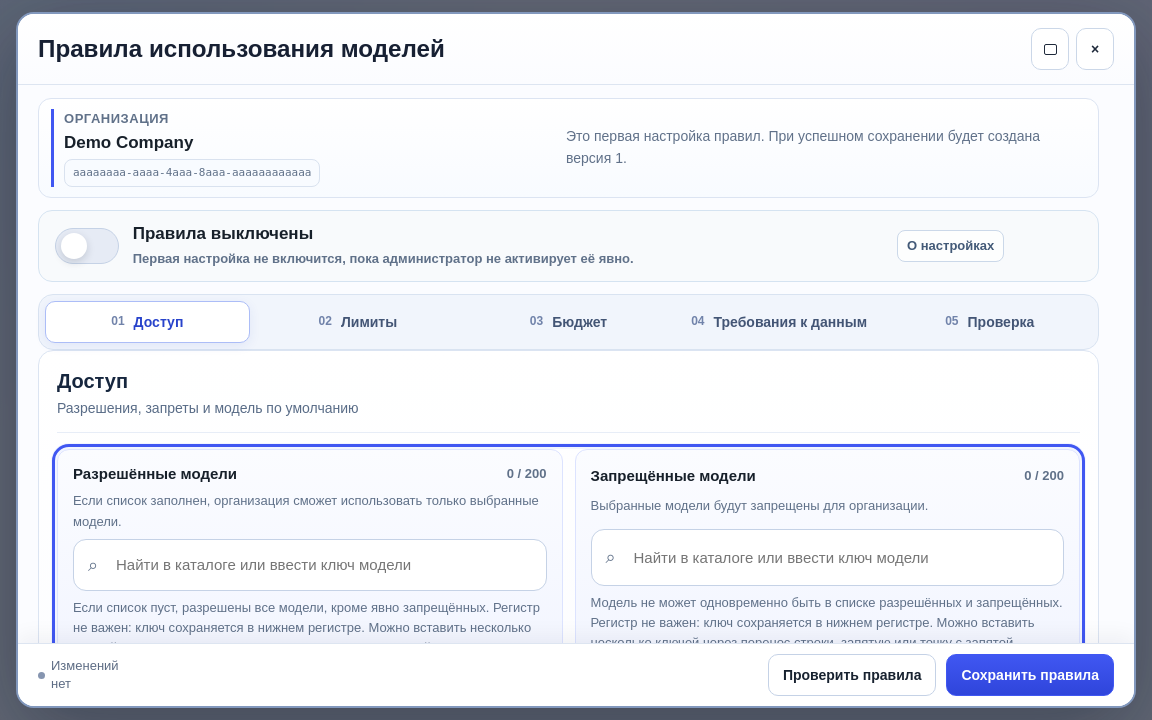
Test: ModelPolicyModal › меняет подпись статуса при включении правил
The width and height of the screenshot is (1152, 720).
Expected: the text "Правила выключены" is shown, [133, 224, 313, 243]
Expected: the text "Первая настройка не включится, пока администратор не активирует её явно." is shown, [133, 249, 634, 269]
Click the checkbox labelled "Правила выключены": (87, 246) [55, 224, 634, 266]
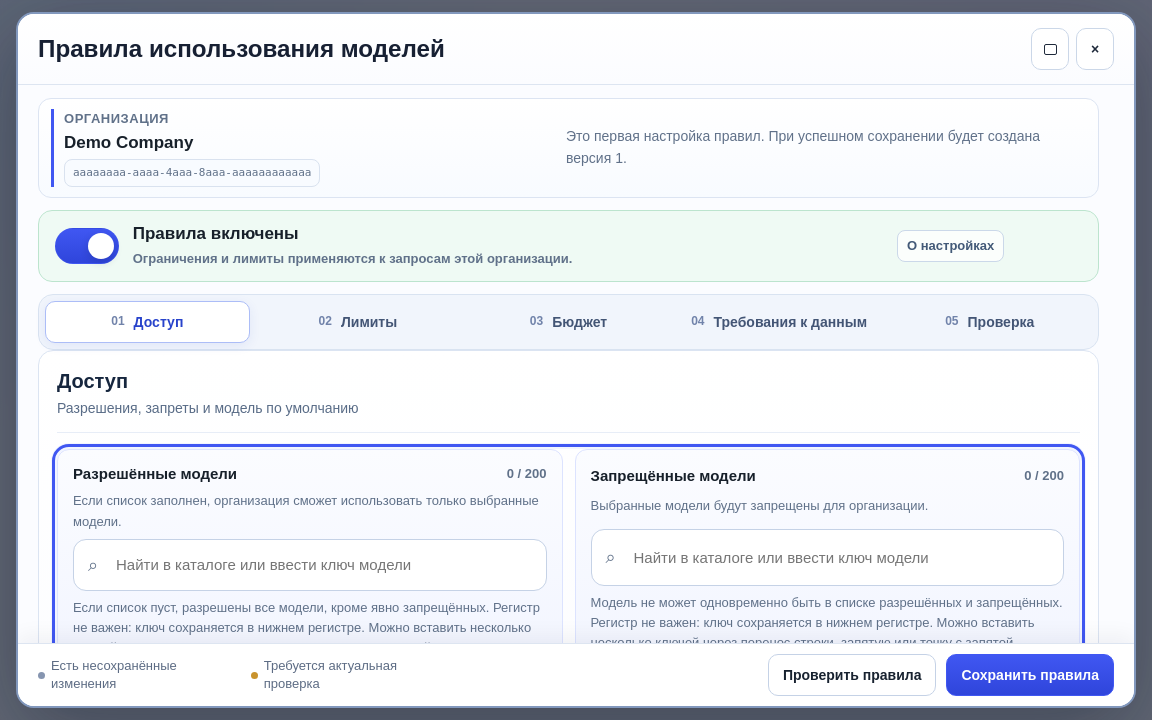
Expected: the text "Правила включены" is shown, [133, 224, 299, 243]
Expected: the text "Ограничения и лимиты применяются к запросам этой организации." is shown, [133, 249, 572, 269]
